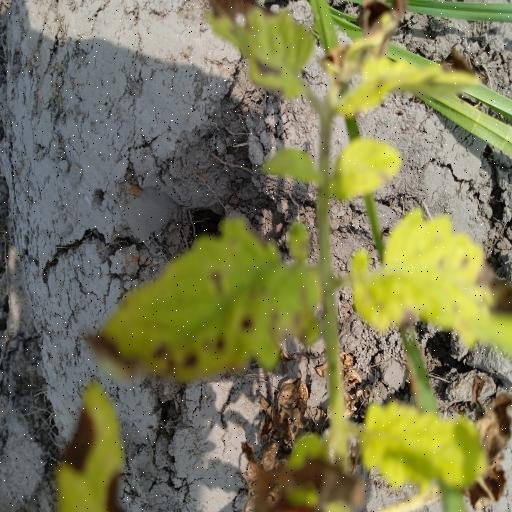Tomato_Brown_Spots: (80, 208, 328, 396)
